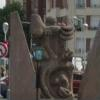Statue: (29, 13, 78, 100)
